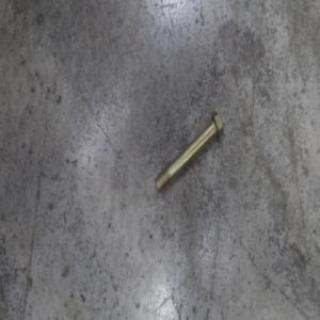Bolttrack_idkeyframe: (153, 108, 223, 194)
